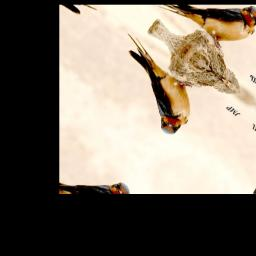Swallow: (94, 29, 212, 141)
